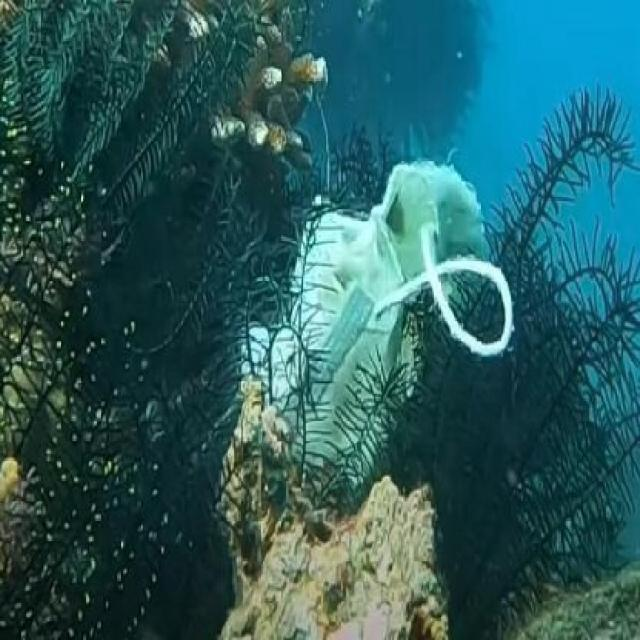Mask: (233, 160, 515, 518)
